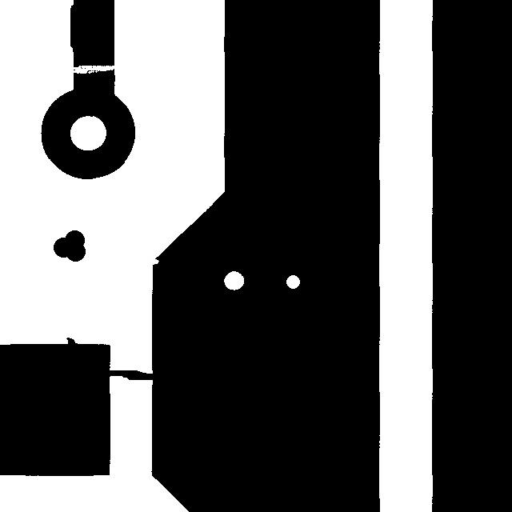copper: (46, 222, 93, 269)
mousebite: (143, 251, 166, 272)
open: (62, 58, 129, 81)
pin-hole: (278, 267, 307, 296)
short: (95, 362, 163, 387)
spur: (58, 330, 86, 354)
